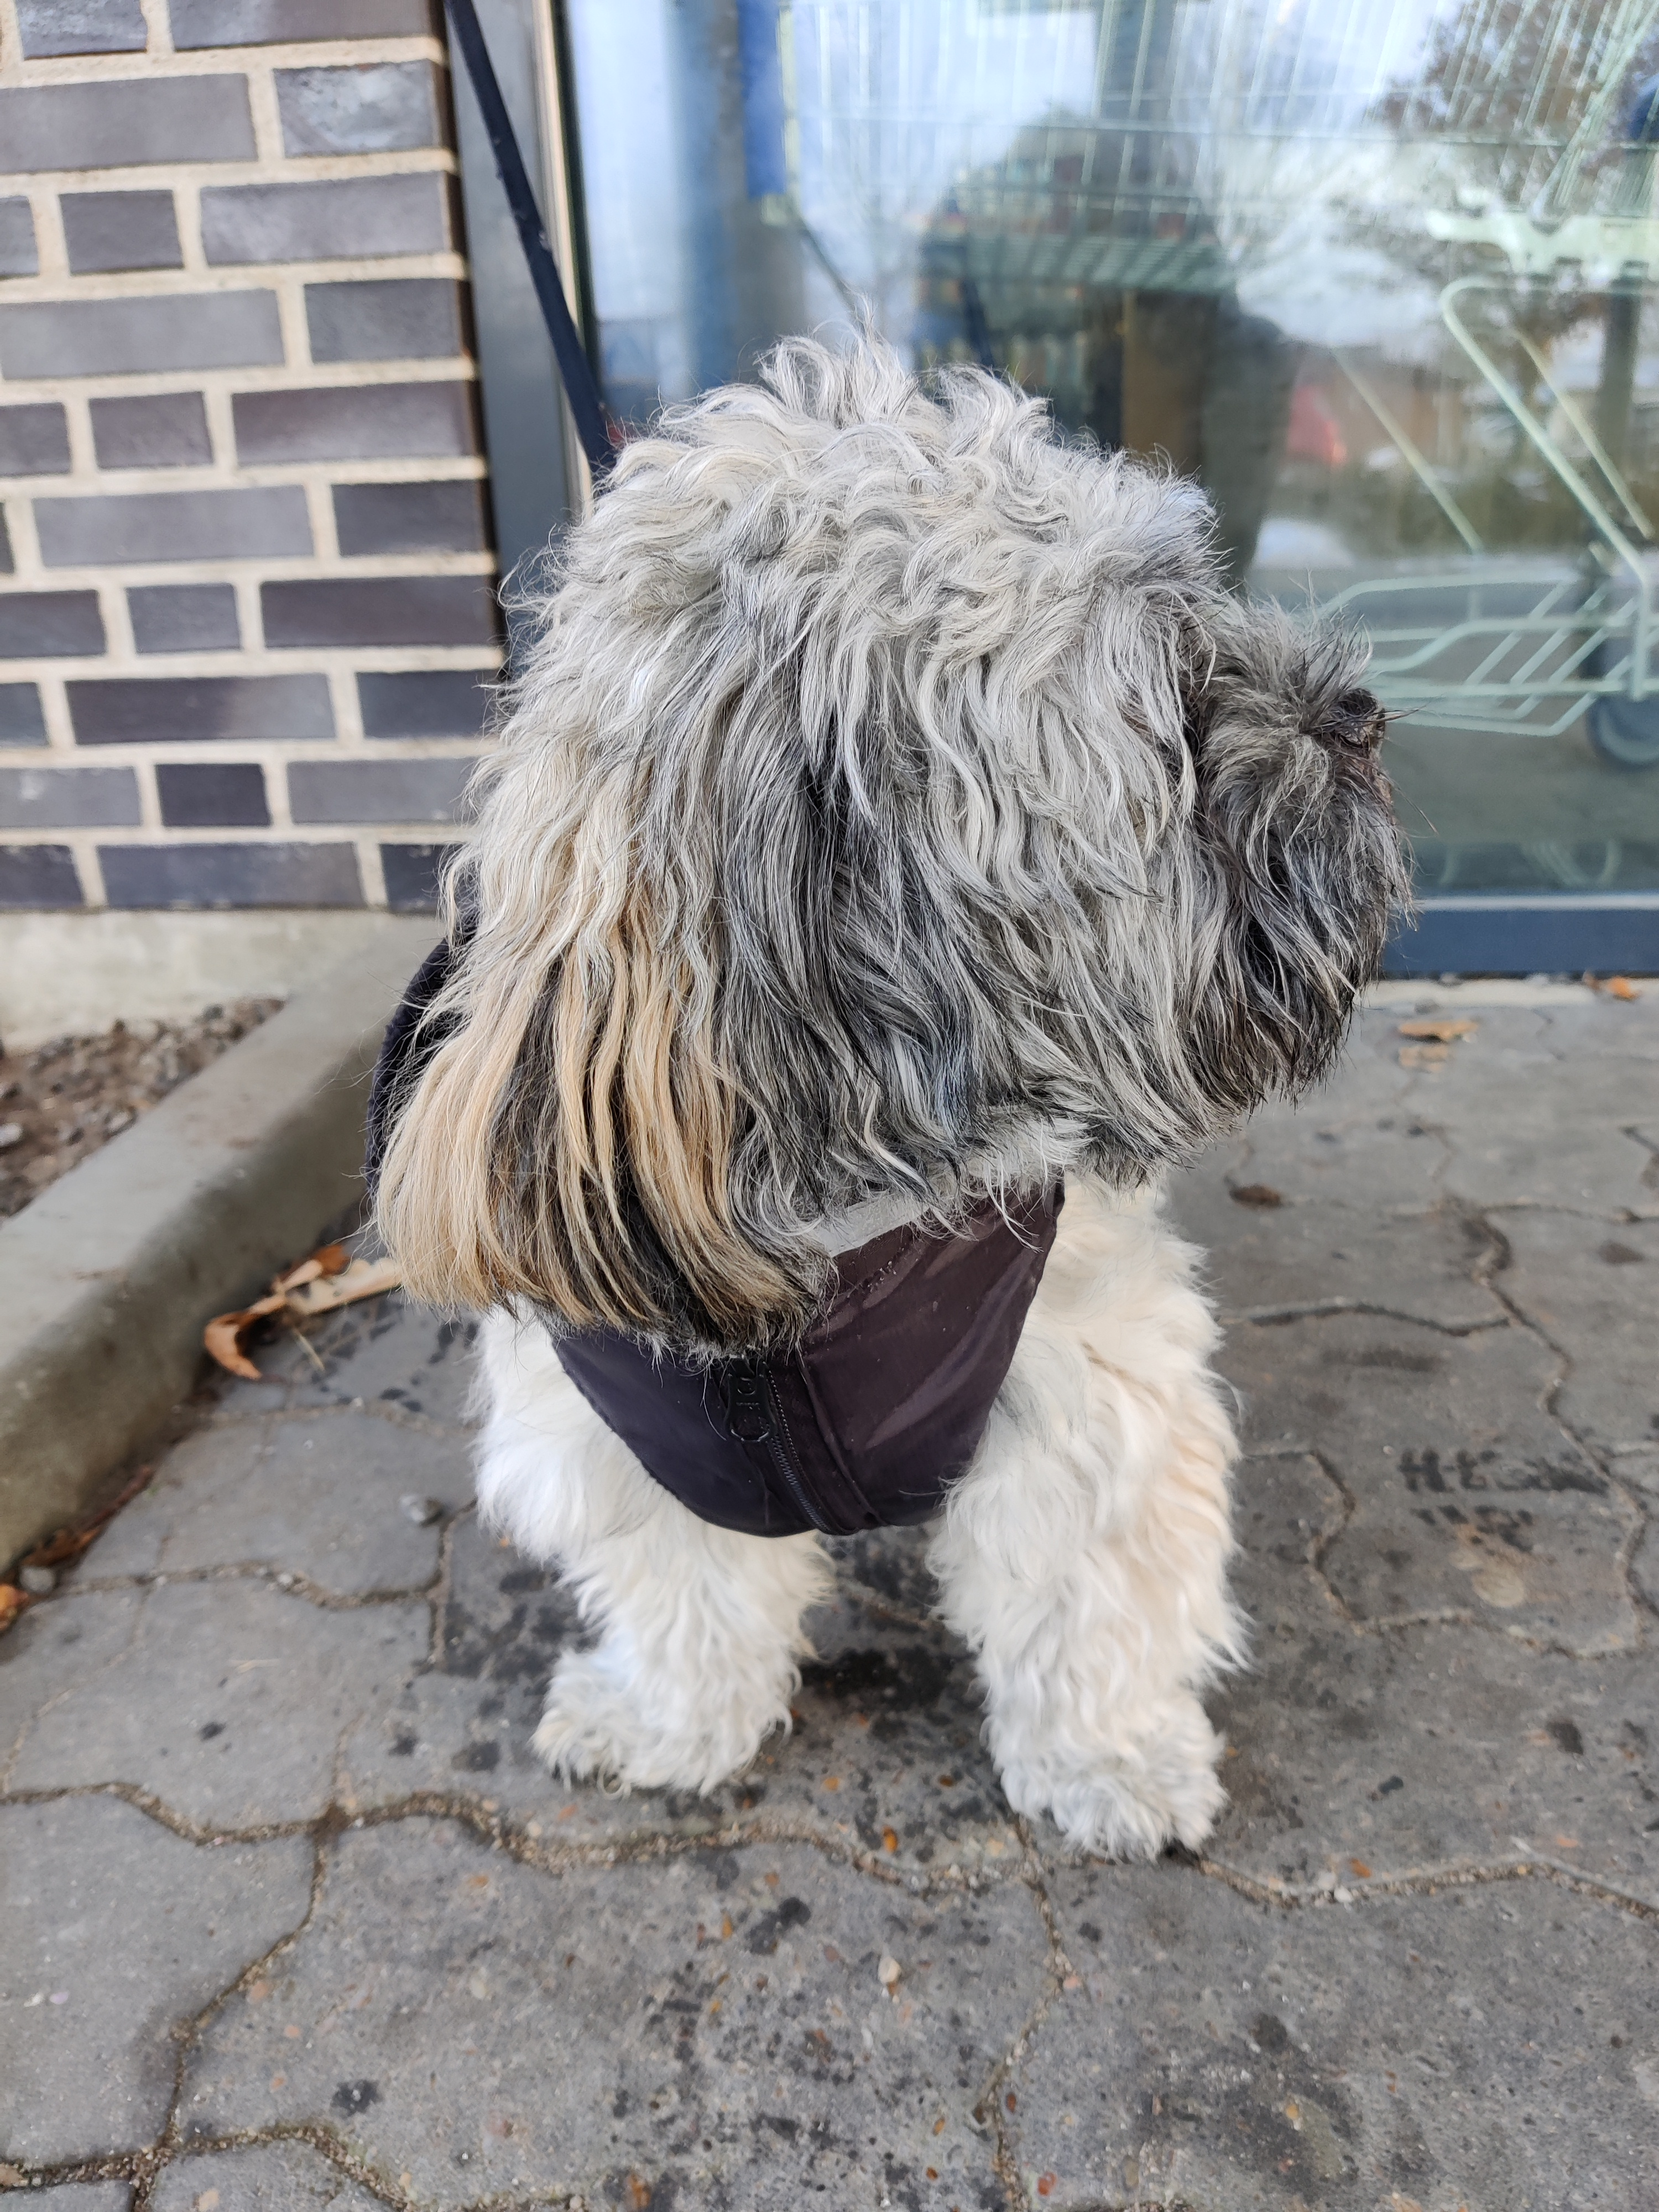Dog: (352, 317, 1405, 1881)
